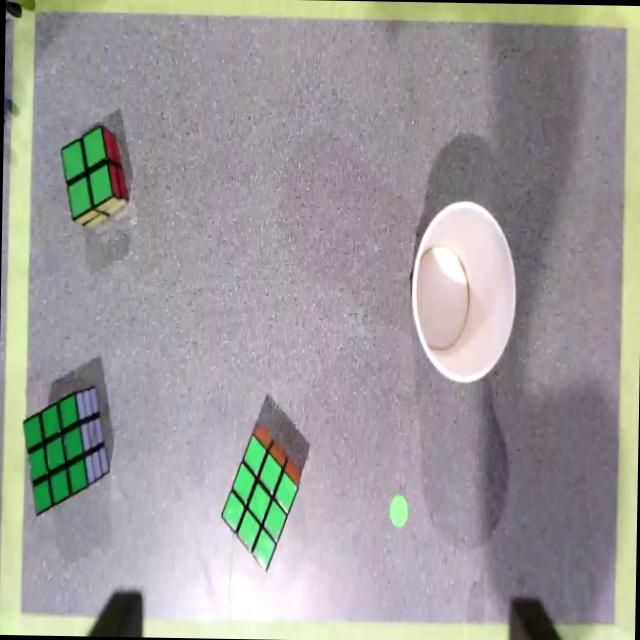cube2-green: (61, 124, 113, 219)
cube3-green: (221, 433, 297, 571), (22, 394, 88, 515)
